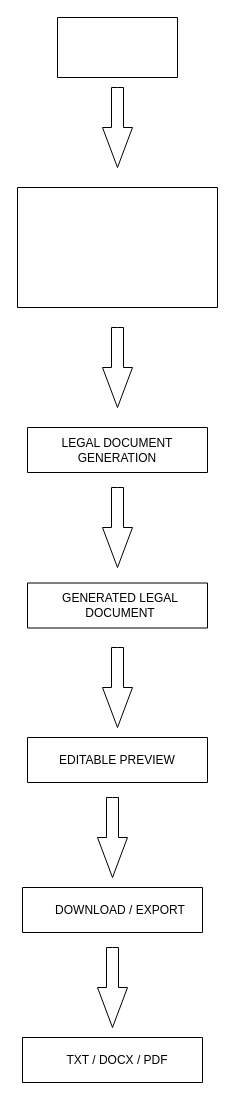
Some shapes in this 235 by 1100 pixel diagram are drawn without their labels. Each missing label, with the box of its shape:
DOCUMENT DETAILS Document Type Parties Terms Effective Date: (16, 186, 218, 308)
USER: (56, 16, 178, 78)
